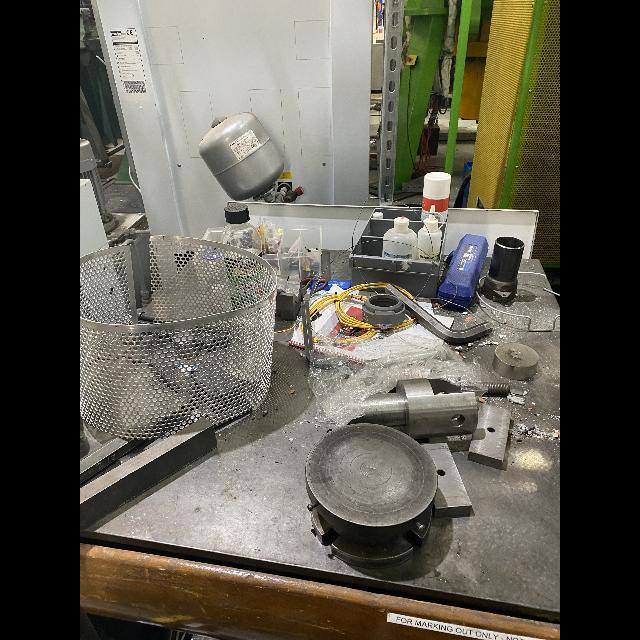Aluminium: (81, 235, 277, 439)
Ferrous Metal: (306, 423, 438, 568), (80, 419, 217, 529), (349, 378, 478, 439), (385, 284, 493, 343), (422, 443, 473, 517), (476, 292, 560, 331), (80, 437, 144, 484), (468, 402, 511, 469), (482, 236, 524, 303), (492, 343, 539, 380), (518, 272, 560, 296), (301, 301, 313, 364), (482, 382, 510, 397), (478, 276, 486, 296)
